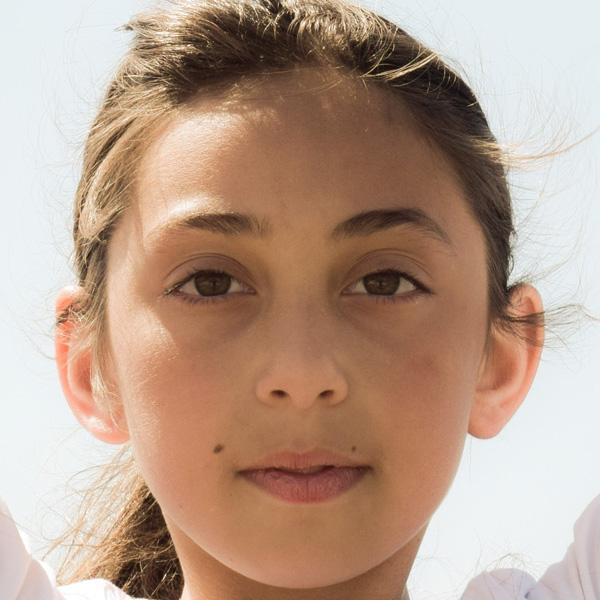Eyes: (154, 246, 266, 321), (329, 246, 442, 318)
